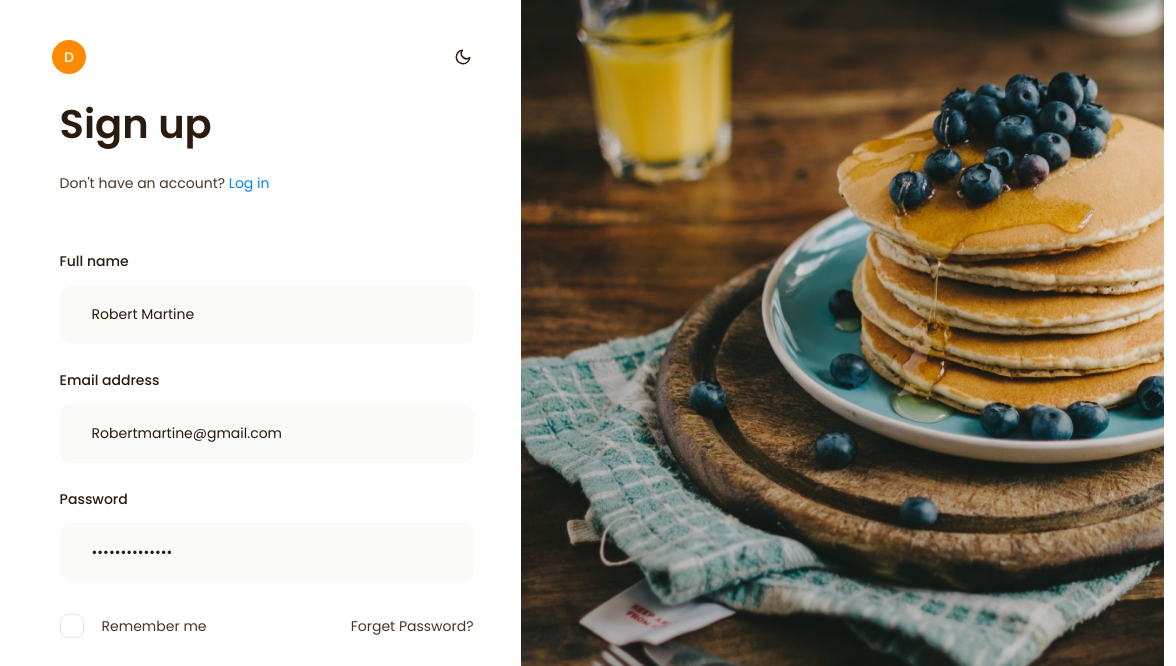
Test: Login (issue 1) › rejects duplicate accounts and short passwords
Type "Ana" into the field with placeholder "Robert Martine" at (267, 314), box [60,285,474,344]
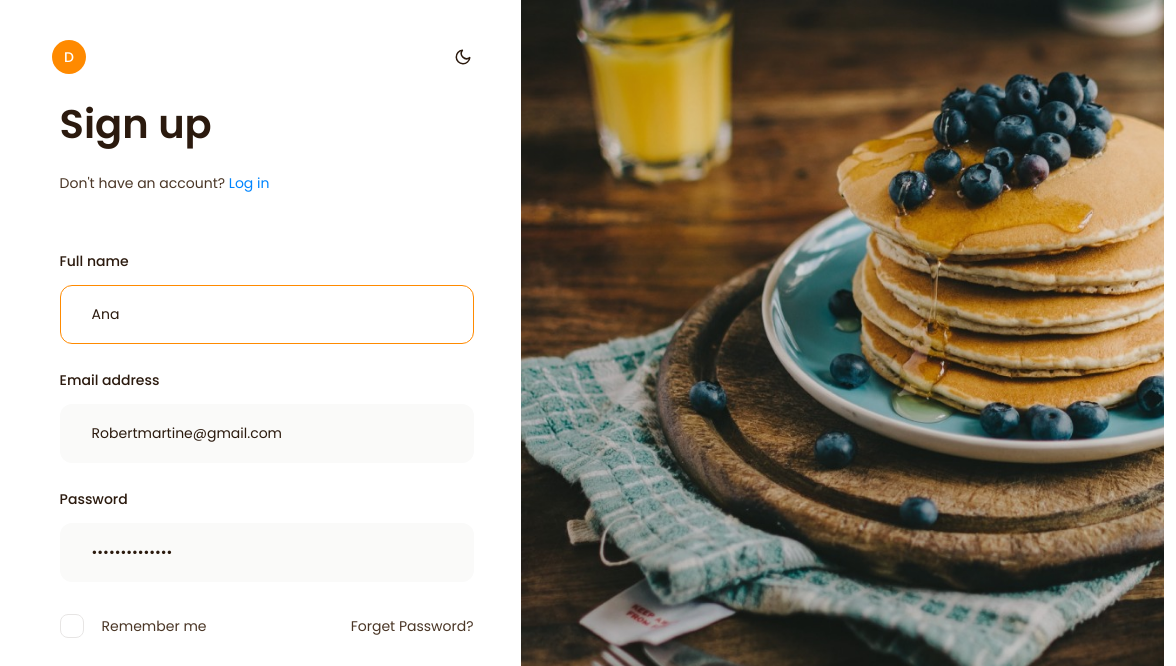
Type "ana@example.com" into the field with placeholder "Robertmartine@gmail.com" at (267, 434), box [60,404,474,463]
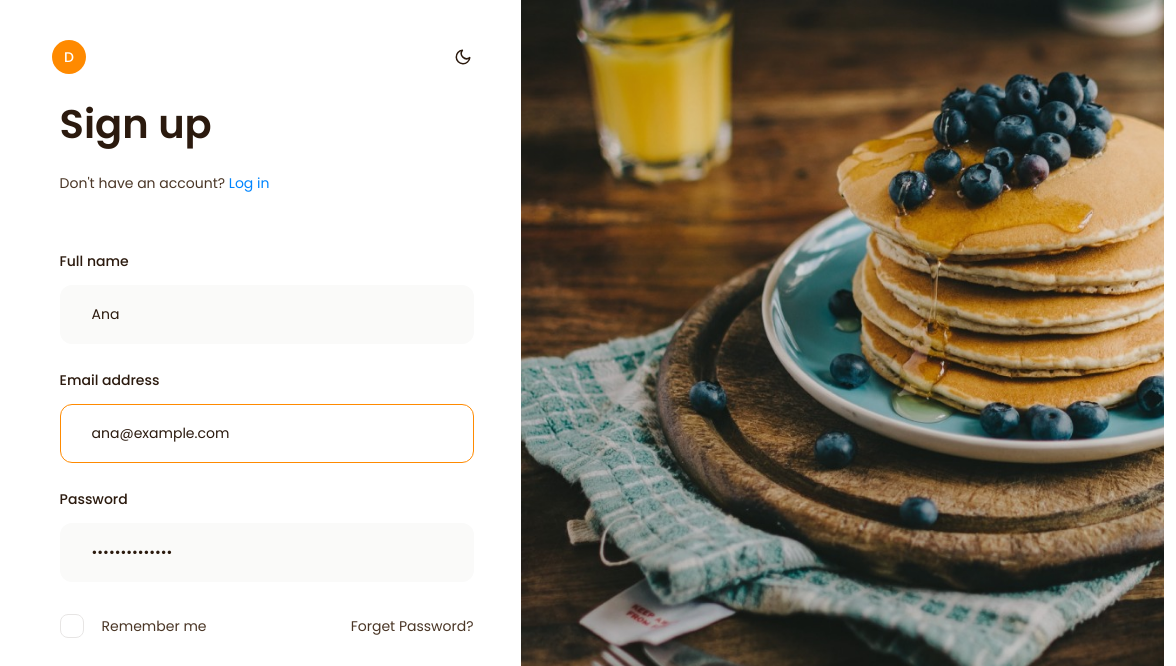
Type "short" into the password field with placeholder "••••••••••••••" at (267, 552), box [60,523,474,582]
(page scrolled)
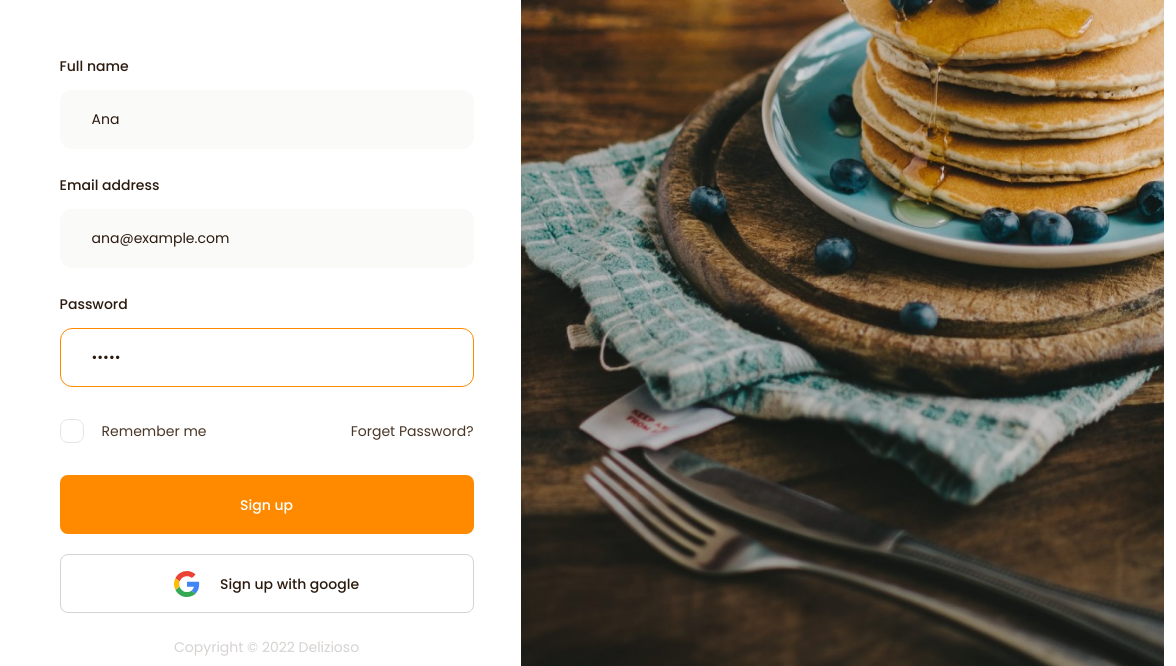
Click the button "Sign up" at (267, 504), box [60,475,474,534]
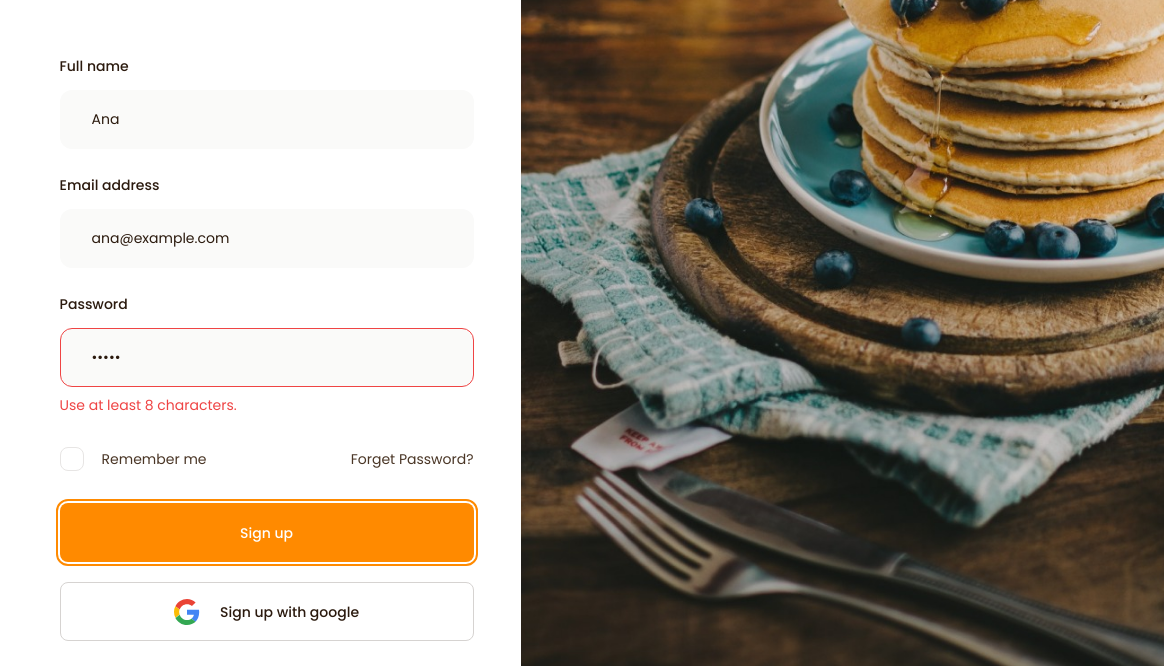
Check: the text "Use at least 8 characters." is shown, box [60,395,237,415]
